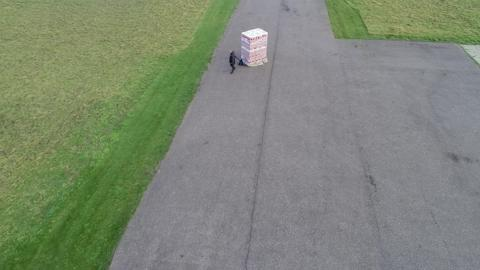RockwoolPallet: (241, 26, 268, 64)
